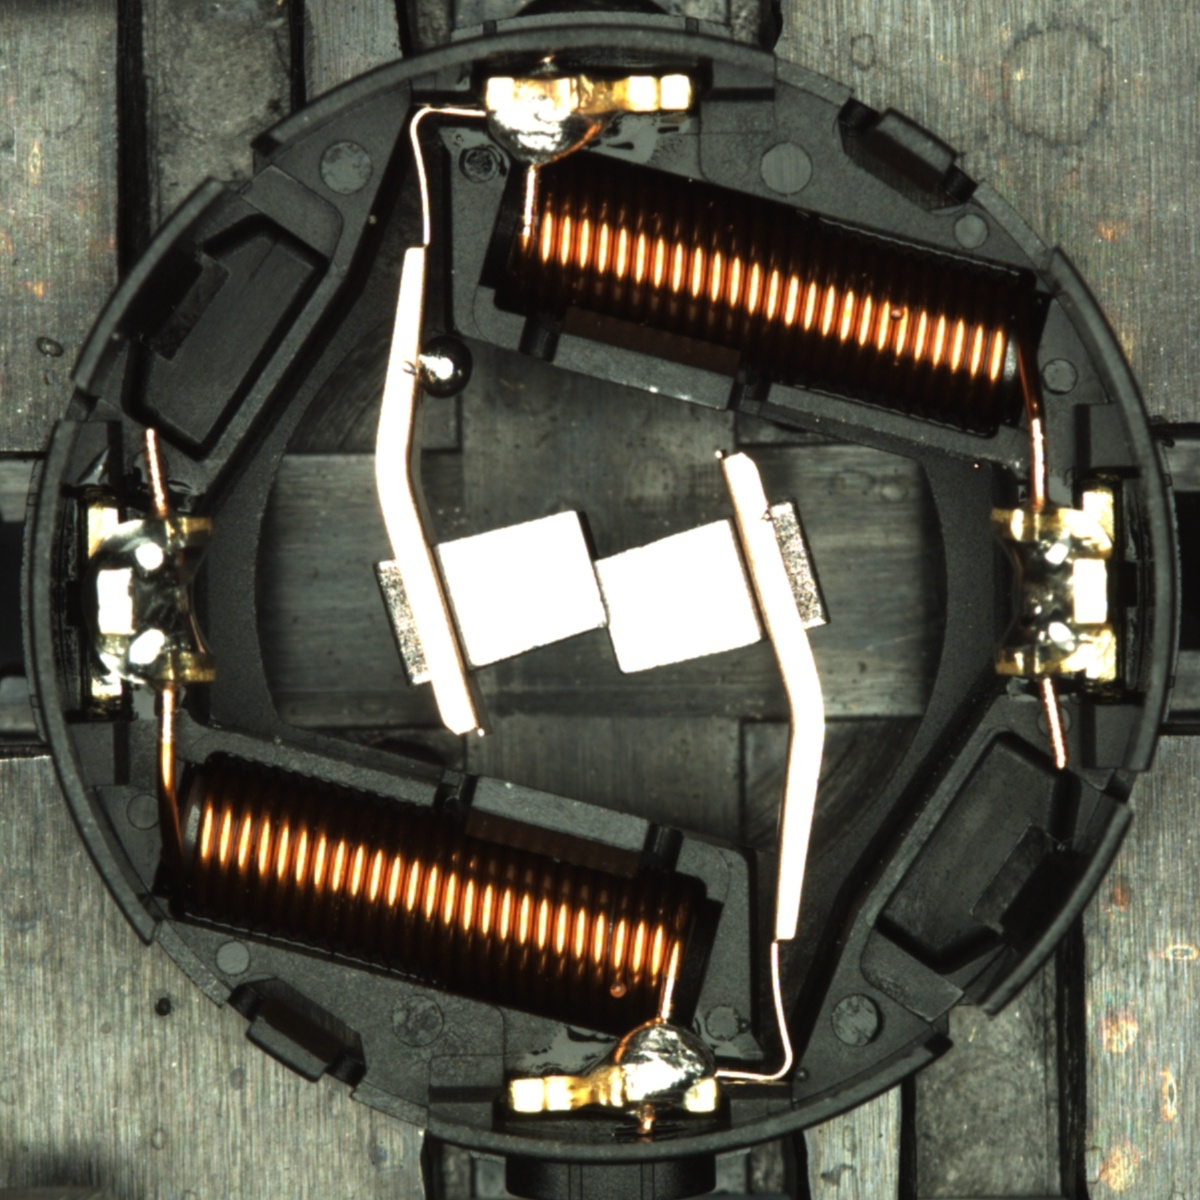1: (253, 31, 482, 255), (712, 929, 941, 1153)
2: (253, 929, 482, 1153), (712, 31, 941, 255)
3: (24, 255, 253, 480), (941, 704, 1170, 929)
4: (712, 704, 941, 929)
5: (482, 143, 712, 368), (482, 816, 712, 1041)
6: (712, 255, 941, 480), (253, 704, 482, 929)
7: (941, 255, 1170, 480), (24, 704, 253, 929)
cacbon: (393, 498, 801, 686)
chau_dien: (80, 498, 222, 702), (984, 489, 1123, 687)
hat_chi: (415, 338, 473, 401)
tay_choi: (480, 73, 697, 173), (508, 1016, 721, 1116)
thanh_de: (954, 788, 1141, 1032), (58, 165, 244, 405)
vun_chi: (413, 337, 475, 403)
